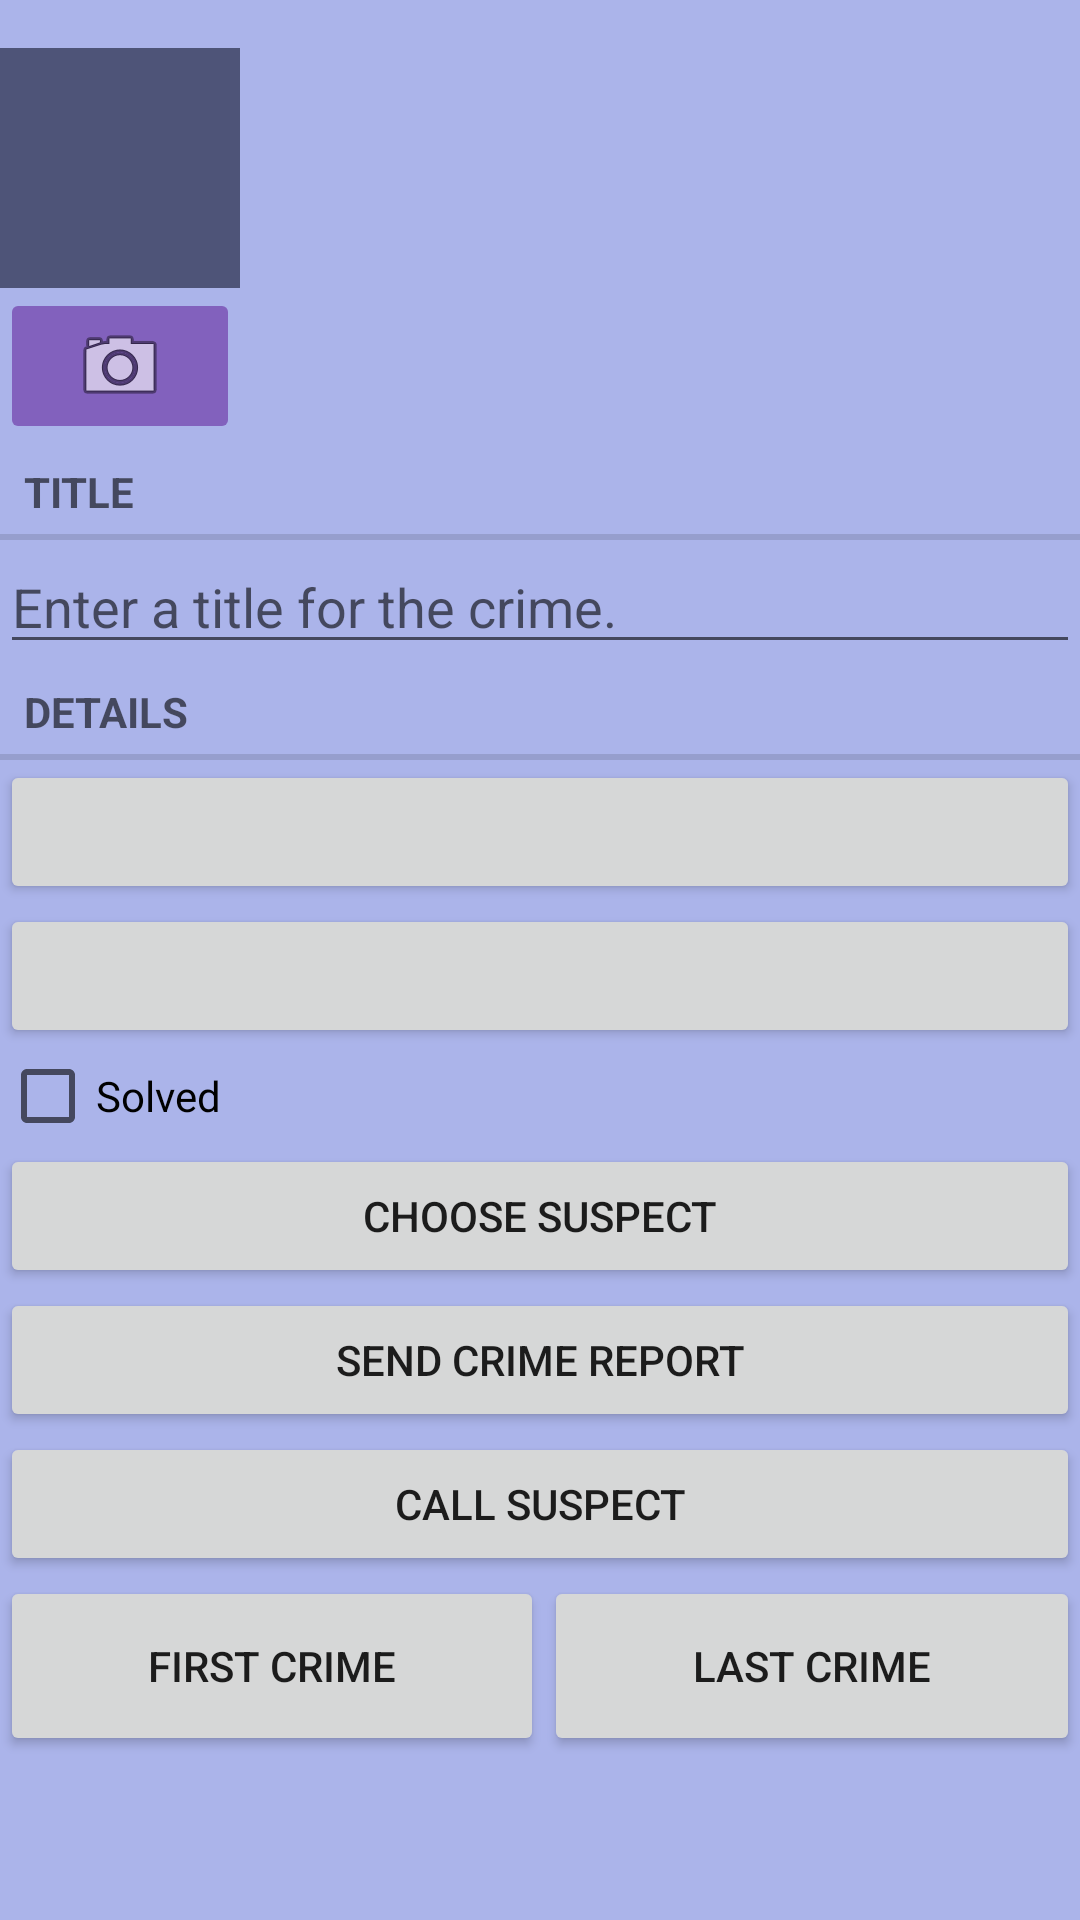

Icon click points for this 1080*1920 phone screenshot, format [x,y]:
Take photo of crime scene: [120,366]
